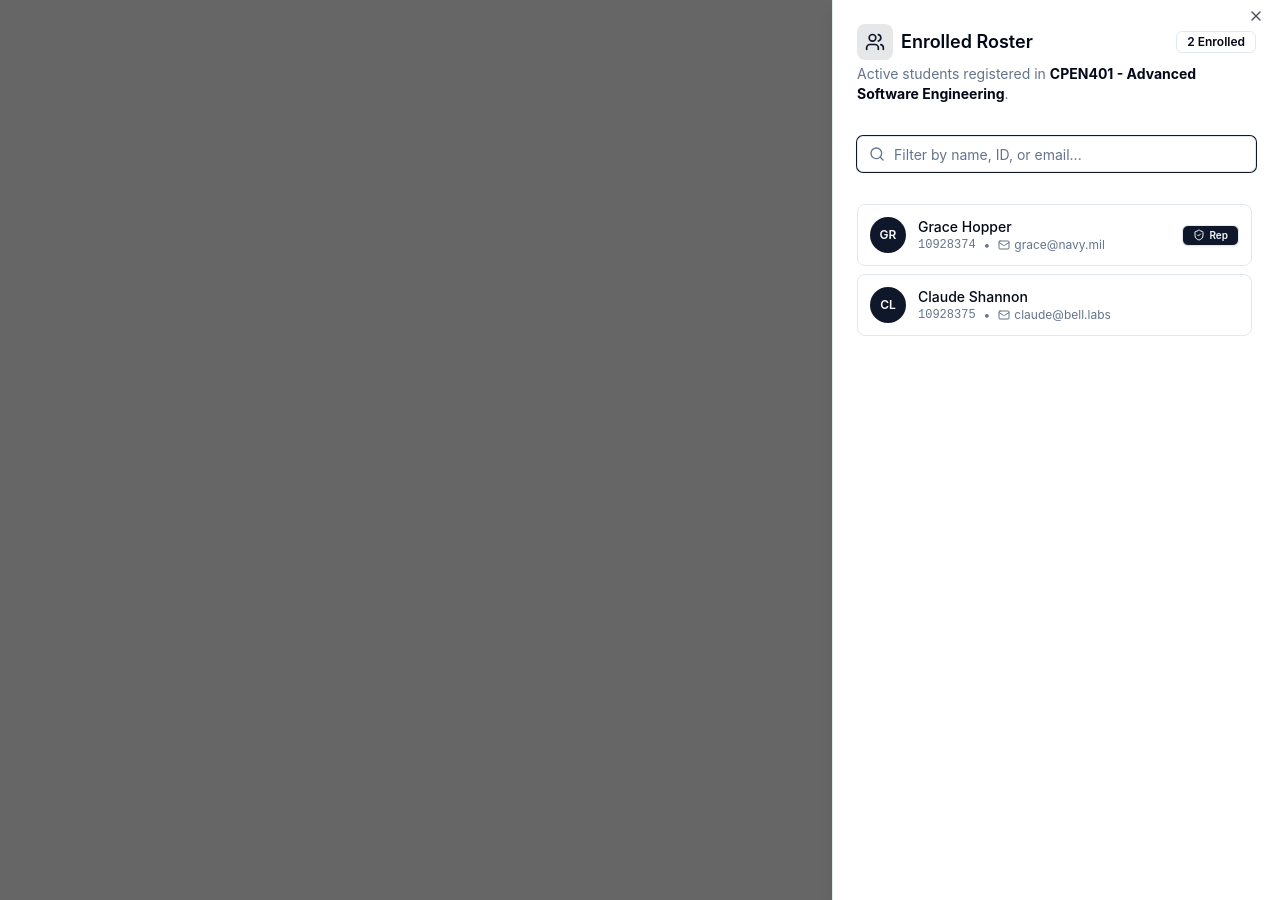
Test: Course Dialogs and Sheets › CourseRosterSheet › renders roster students and filters students by name
Expected: the heading "Enrolled Roster" is shown, [901, 28, 1033, 56]
Expected: the text "Grace Hopper" is shown, [918, 218, 1012, 235]
# Filter by Shannon
Type "Shannon" into the field with placeholder "Filter by name, ID, or email..." at (1056, 154), box [857, 136, 1256, 172]
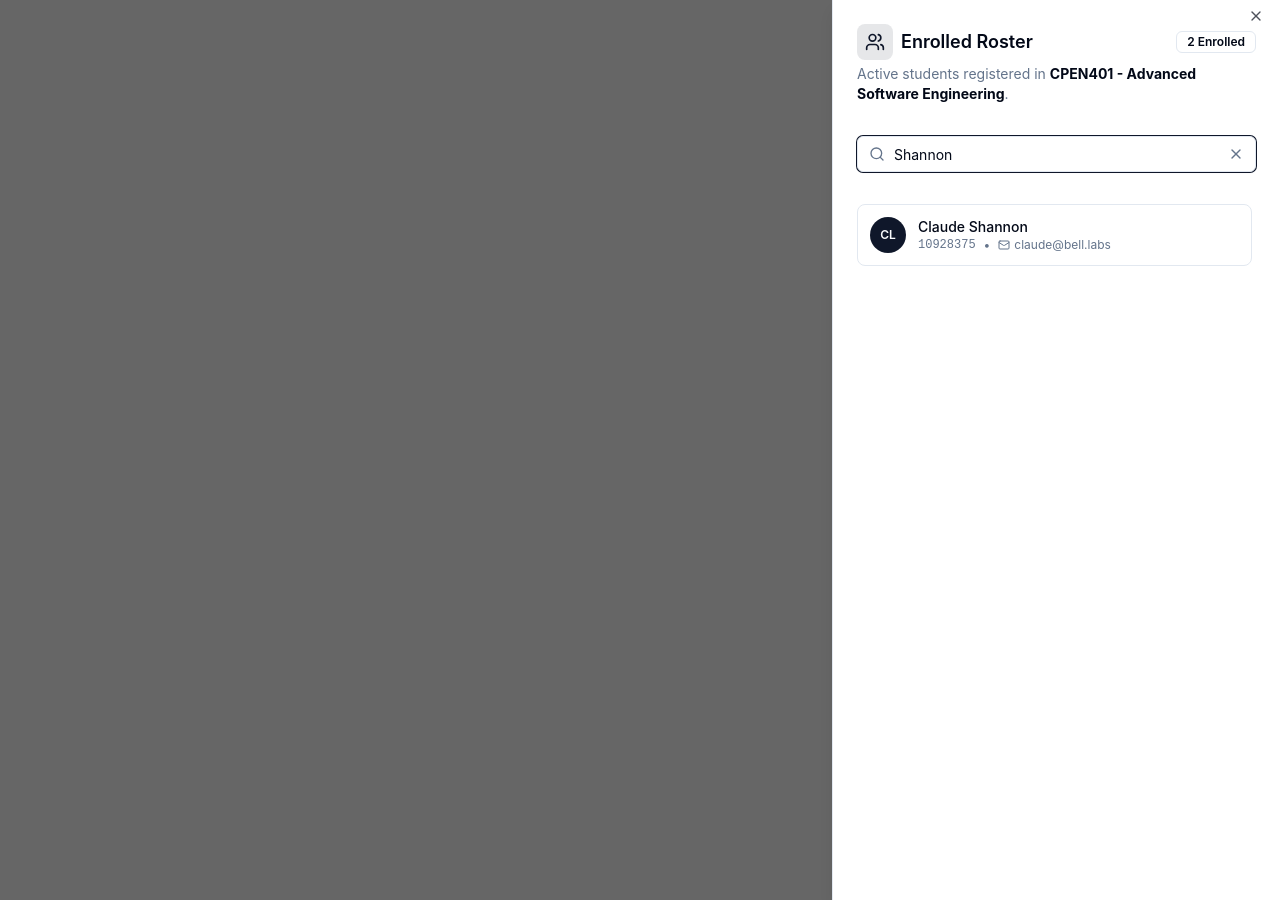
Expected: the text "Claude Shannon" is shown, [918, 218, 1028, 235]
Expected: the text "Grace Hopper" is gone
